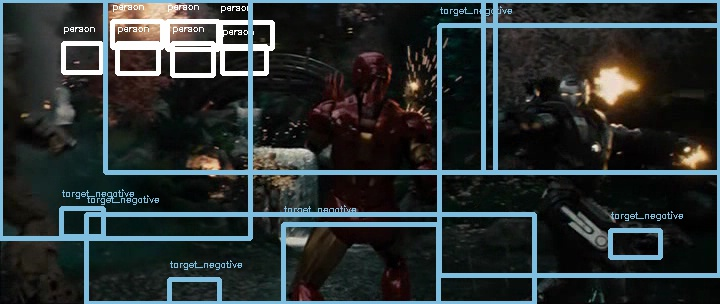person: (349, 44, 396, 96), (348, 44, 395, 96), (350, 44, 397, 96), (349, 43, 396, 95), (349, 45, 396, 97)
target_negative: (53, 45, 713, 60), (491, 163, 606, 242), (263, 38, 342, 132), (317, 228, 508, 264), (661, 279, 707, 285)
